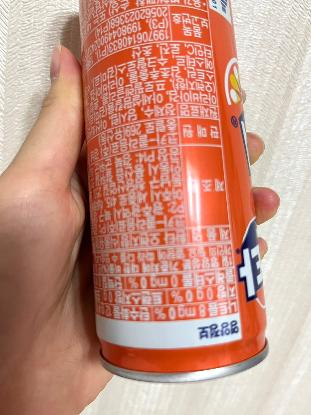Can: (76, 0, 273, 389)
